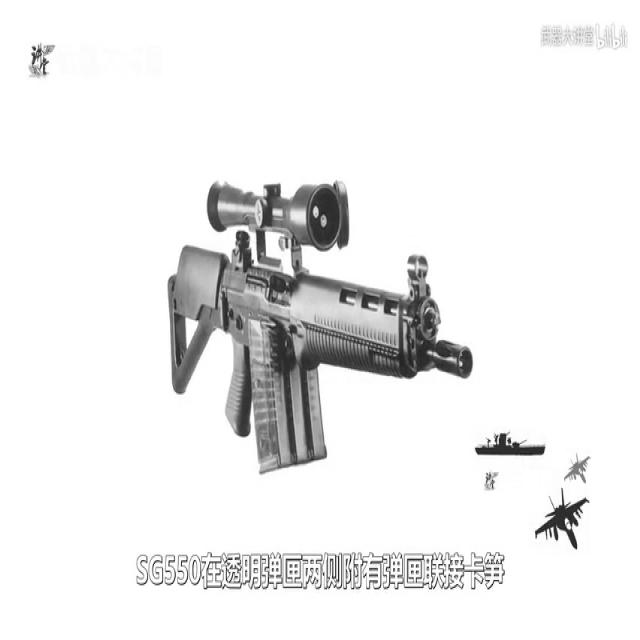Rifle: (115, 132, 534, 514)
